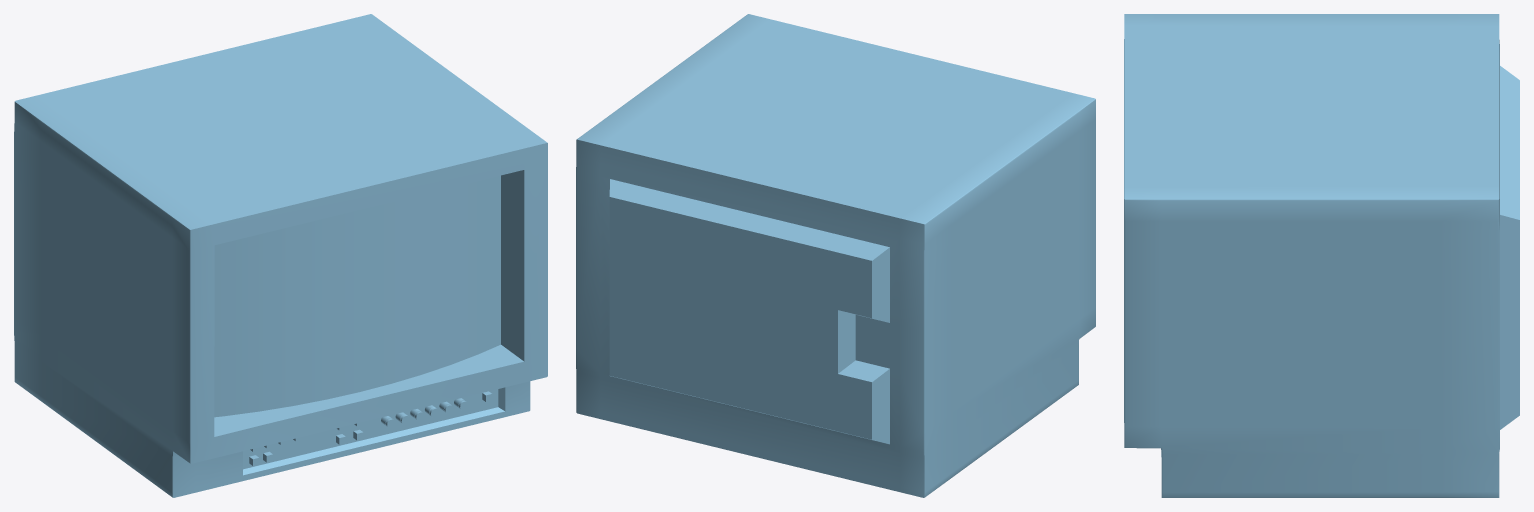
The model's file is CRT_L.fbx.
3 renders of one model, left to right at view 1: azimuth 30°, elevation 25°; view 2: azimuth 150°, elevation 25°; view 3: azimuth 270°, elevation 25°, orthographic. The views are drawn at different scales.
Parts seen in each view (by area): view 1: sm_CRT_01; view 2: sm_CRT_01; view 3: sm_CRT_01.
Part boxes in pixels (<box>): sm_CRT_01: <box>14,14,547,497</box>; sm_CRT_01: <box>576,14,1095,497</box>; sm_CRT_01: <box>1124,14,1519,497</box>.
Size of the model in its own units: 40 by 30 by 35.98.
